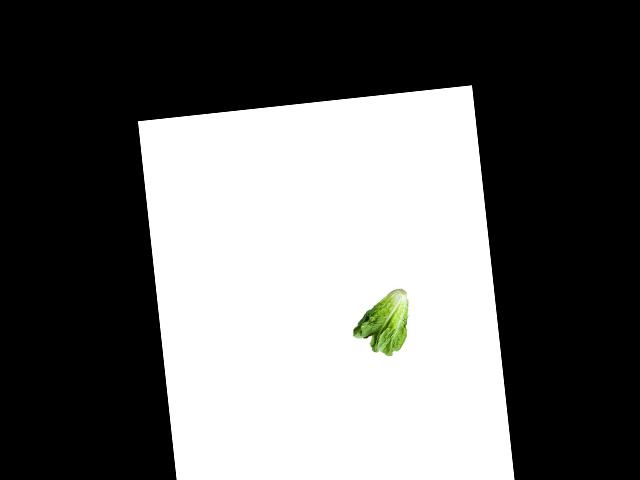lettuce: (345, 283, 419, 359)
